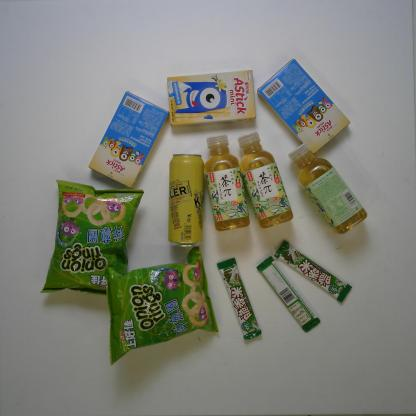Alcohol: (162, 151, 210, 248)
Chocolate: (254, 254, 323, 335), (272, 239, 352, 305), (216, 257, 262, 342)
Dessert: (255, 55, 352, 156), (85, 90, 171, 191), (164, 67, 258, 128)
Drink: (287, 143, 374, 234), (233, 131, 294, 229), (202, 134, 250, 233)
Puffed Food: (99, 246, 222, 368), (37, 178, 146, 296)
